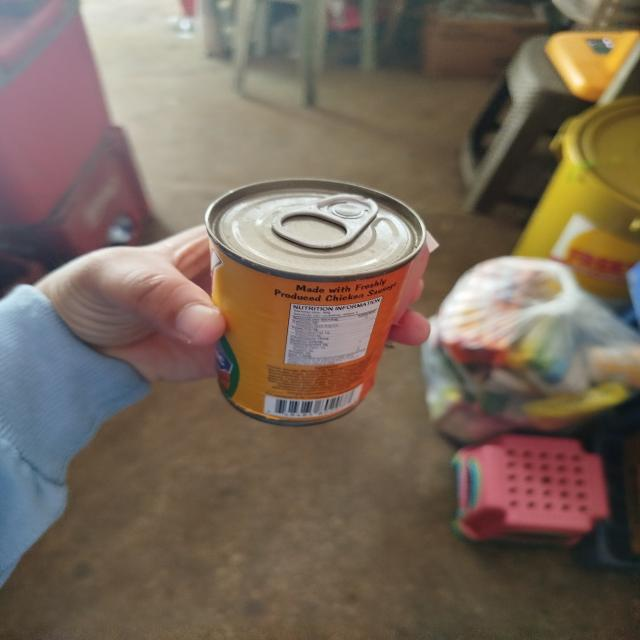metal: (183, 164, 431, 440)
residual: (433, 250, 640, 444)
